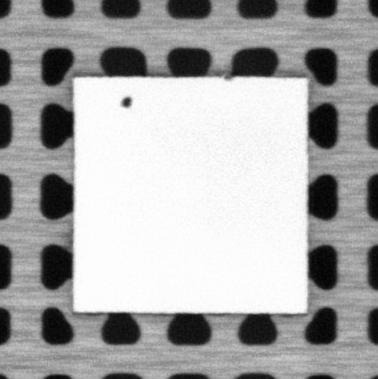DIE_INK: (119, 94, 133, 110)
